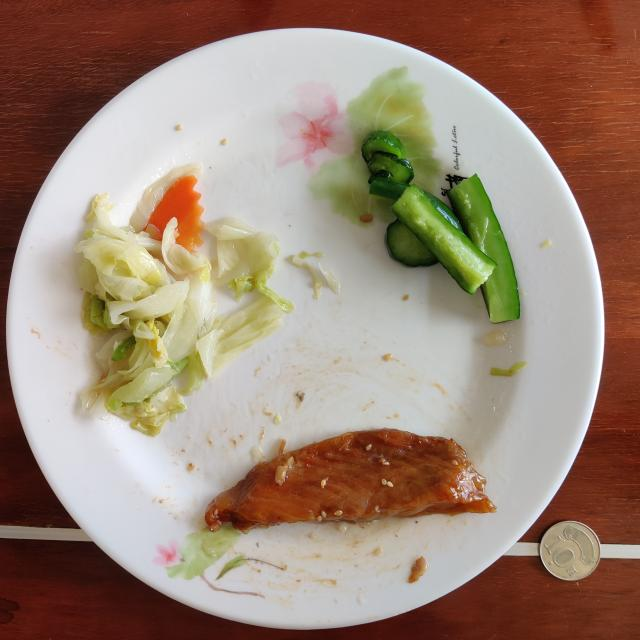Kabayaki sea bream fillet: (205, 429, 496, 532)
cabbage: (75, 162, 294, 436)
coin: (540, 521, 600, 580)
cucumber: (361, 131, 520, 322)
